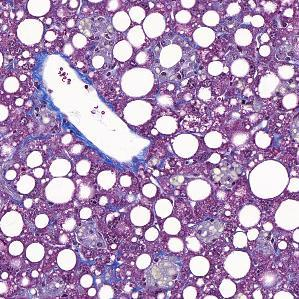fibrosis: (104, 153, 160, 180), (25, 51, 48, 108)
